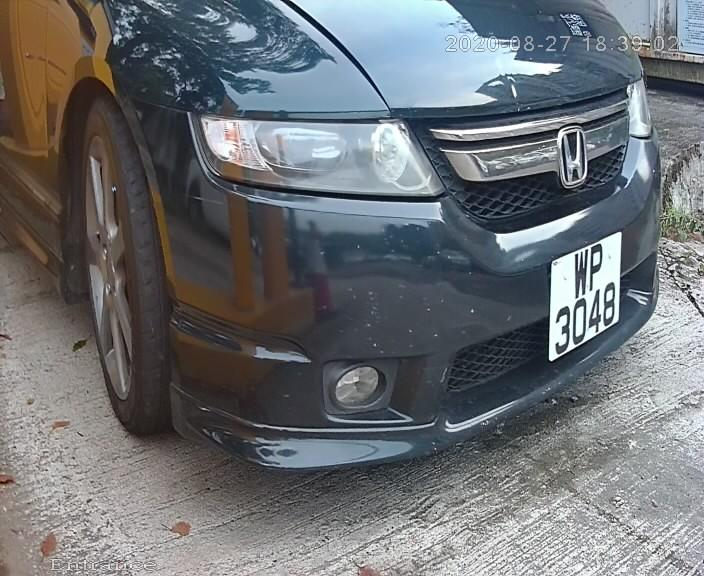Car: (45, 1, 704, 510)
License Plate: (538, 220, 637, 366)
